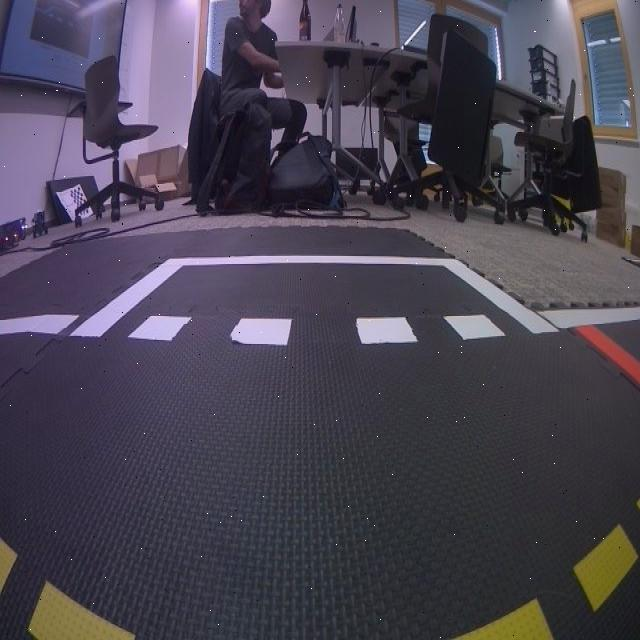park: (70, 257, 560, 345)
